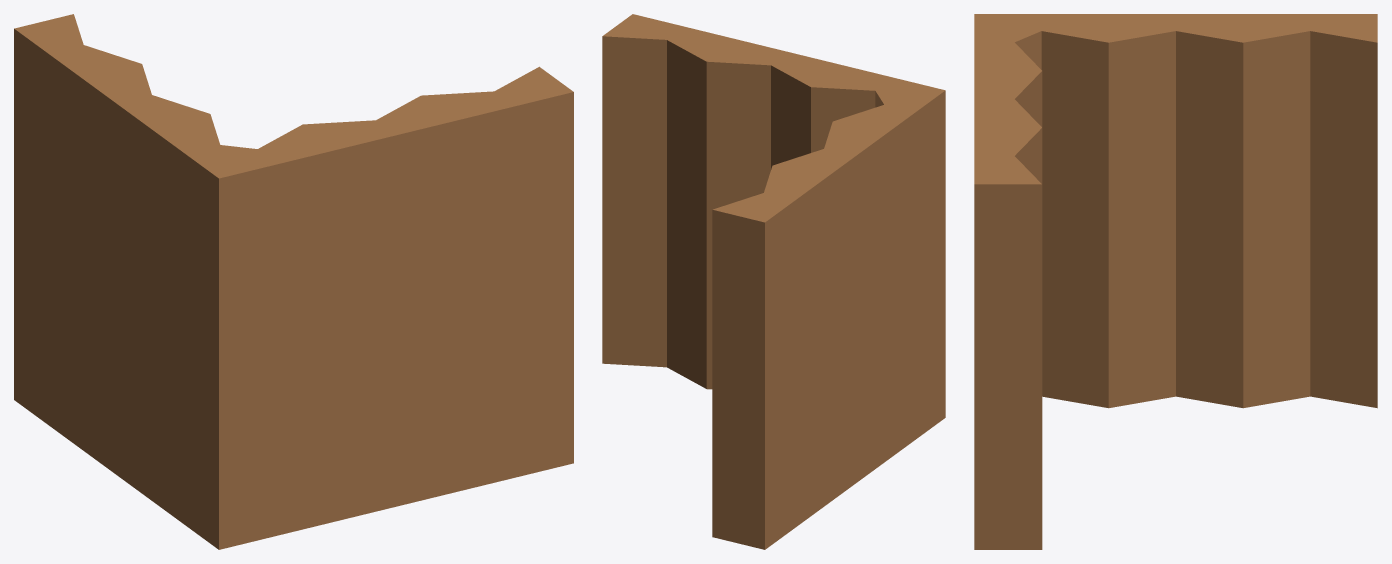
The model's file is cliff_cornerInner_rock.glb.
The picture shows the model from 3 angles, left to right: view 1: azimuth 30°, elevation 25°; view 2: azimuth 150°, elevation 25°; view 3: azimuth 270°, elevation 25°; orthographic projection. The views are drawn at different scales.
Visible parts, largest first — view 1: cliff_cornerInner_rock; view 2: cliff_cornerInner_rock; view 3: cliff_cornerInner_rock.
Part boxes in pixels (<box>): cliff_cornerInner_rock: <box>14,14,573,549</box>; cliff_cornerInner_rock: <box>602,14,945,549</box>; cliff_cornerInner_rock: <box>974,14,1377,549</box>.
Size of the model in its own units: 1 by 1 by 1.
